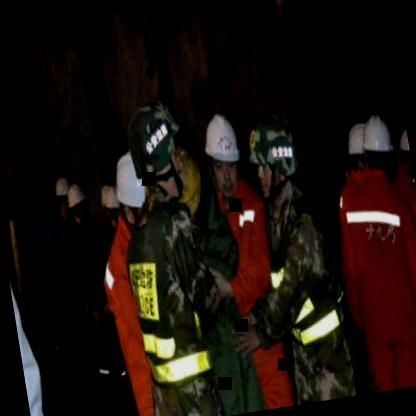helmet: (119, 95, 194, 214), (241, 109, 305, 210), (199, 112, 246, 199), (110, 158, 152, 230), (358, 111, 400, 178), (342, 119, 376, 174), (96, 183, 124, 229), (65, 184, 89, 224), (50, 176, 72, 217)
